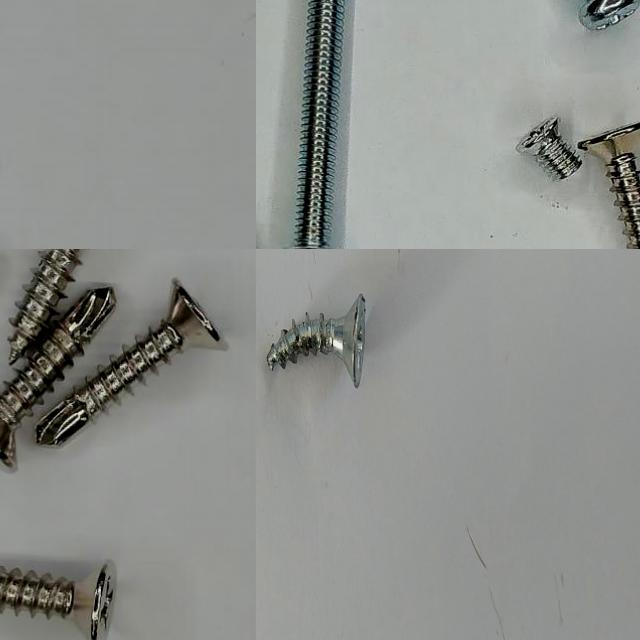Screw: (38, 279, 228, 446), (0, 287, 116, 470), (290, 0, 344, 249), (267, 293, 365, 387), (0, 562, 117, 640), (9, 249, 81, 364), (579, 121, 640, 249), (517, 117, 583, 180), (581, 0, 640, 29)
